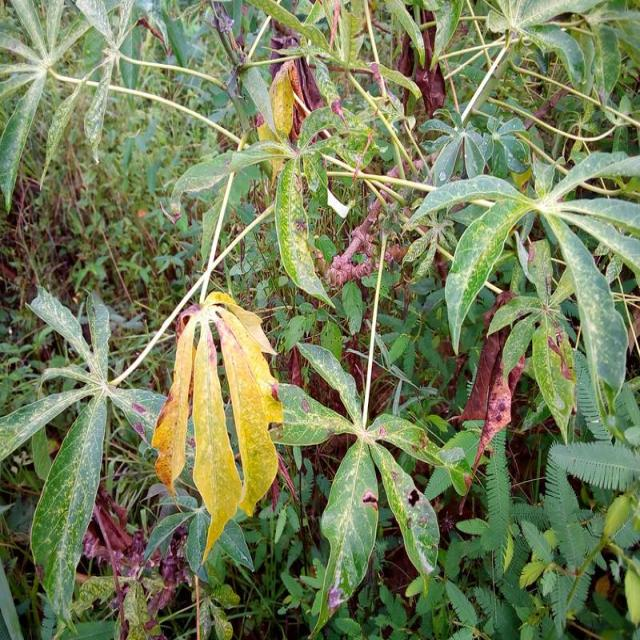cassava leaf: (150, 289, 284, 570), (29, 388, 108, 624), (274, 155, 335, 309)
